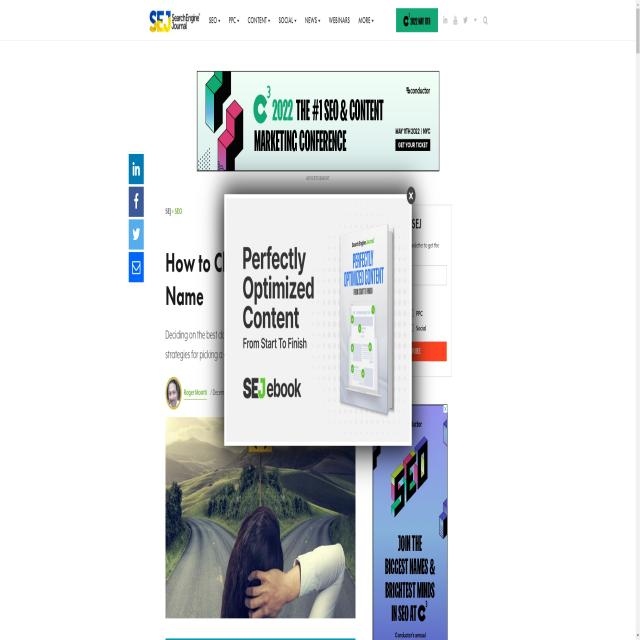menu-bar: (396, 4, 488, 36)
side-panel: (122, 127, 150, 295)
tab-bar: (205, 11, 386, 40)
